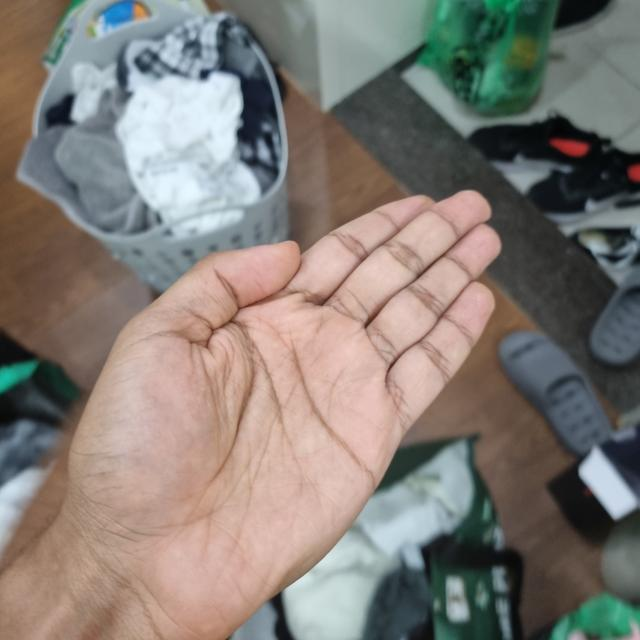Paper: (37, 187, 501, 634)
